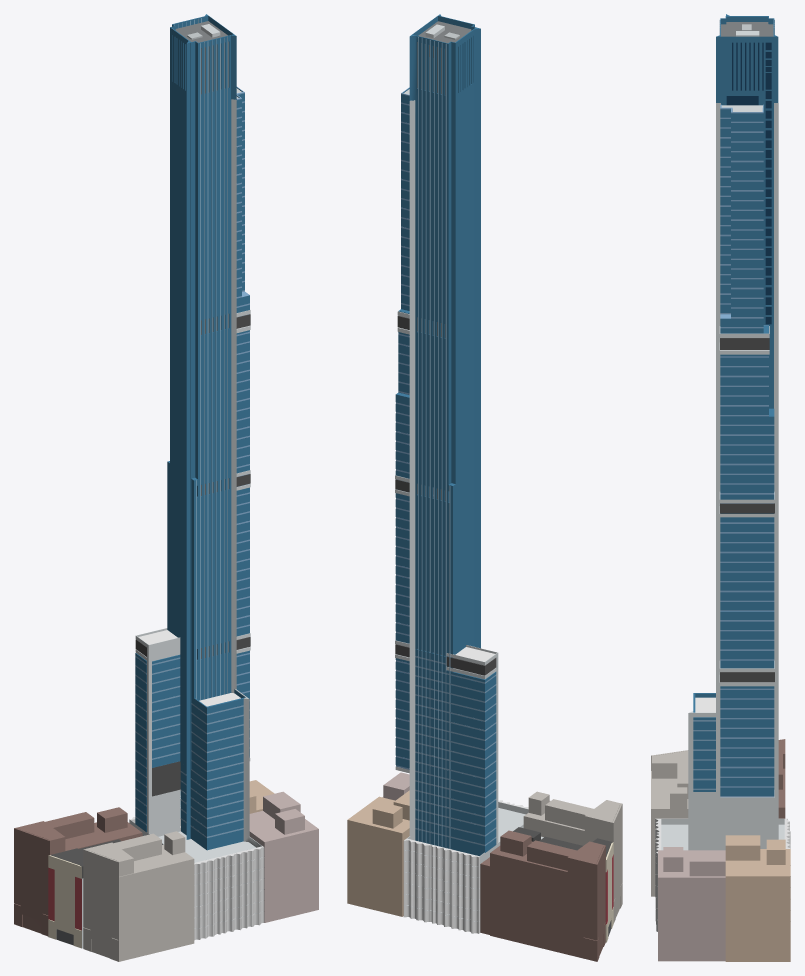
The model's file is t_centralpark.glb.
The picture shows the model from 3 angles, left to right: view 1: azimuth 30°, elevation 25°; view 2: azimuth 150°, elevation 25°; view 3: azimuth 270°, elevation 25°; orthographic projection. The views are drawn at different scales.
Parts seen in each view (by area): view 1: Object_12, Object_5, Object_8, Object_18, Object_3, Object_15, Object_6, Object_20, Object_9, Object_17, Object_2, Object_16 (+1 smaller); view 2: Object_12, Object_15, Object_18, Object_8, Object_7, Object_6, Object_5, Object_20, Object_2, Object_17; view 3: Object_12, Object_8, Object_7, Object_3, Object_2, Object_5, Object_11, Object_17, Object_6, Object_15, Object_14, Object_20 (+1 smaller).
Part boxes in pixels (left/top/right/bottom): Object_12: left=135, top=14, right=249, bottom=850; Object_5: left=83, top=831, right=194, bottom=961; Object_8: left=81, top=24, right=262, bottom=948; Object_18: left=174, top=18, right=227, bottom=700; Object_3: left=249, top=791, right=318, bottom=922; Object_15: left=14, top=807, right=142, bottom=936; Object_6: left=129, top=817, right=264, bottom=940; Object_20: left=135, top=655, right=243, bottom=837; Object_9: left=48, top=855, right=81, bottom=948; Object_17: left=50, top=314, right=250, bottom=878; Object_2: left=236, top=86, right=249, bottom=757; Object_16: left=201, top=41, right=228, bottom=658; Object_12: left=395, top=14, right=496, bottom=855; Object_15: left=480, top=830, right=605, bottom=961; Object_18: left=418, top=37, right=450, bottom=848; Object_8: left=395, top=24, right=543, bottom=932; Object_7: left=347, top=790, right=409, bottom=916; Object_6: left=403, top=800, right=528, bottom=933; Object_5: left=523, top=791, right=622, bottom=923; Object_20: left=415, top=656, right=496, bottom=845; Object_2: left=396, top=87, right=433, bottom=769; Object_17: left=395, top=316, right=612, bottom=856; Object_12: left=693, top=14, right=778, bottom=795; Object_8: left=661, top=31, right=784, bottom=850; Object_7: left=725, top=835, right=790, bottom=961; Object_3: left=658, top=847, right=725, bottom=961; Object_2: left=720, top=104, right=774, bottom=797; Object_5: left=651, top=750, right=688, bottom=896; Object_11: left=726, top=42, right=771, bottom=324; Object_17: left=720, top=338, right=774, bottom=682; Object_6: left=655, top=818, right=790, bottom=931; Object_15: left=778, top=739, right=785, bottom=818; Object_14: left=721, top=22, right=773, bottom=36; Object_20: left=693, top=720, right=715, bottom=789.
Bounding box in the file's own units: 54 × 183 × 25.81.
